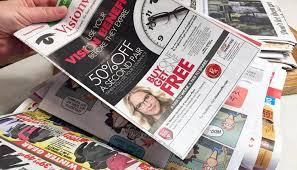Printing industry: (1, 2, 297, 170)
